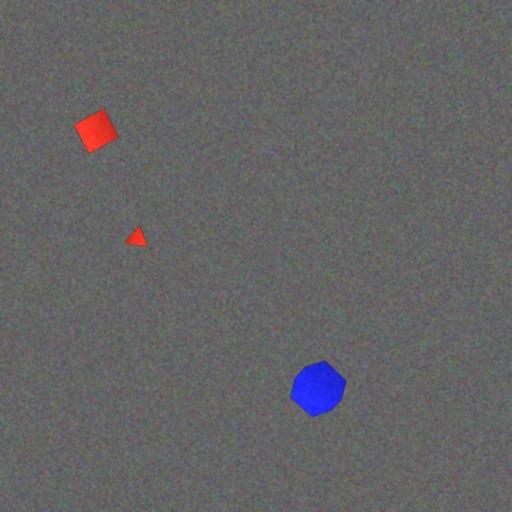RED_SQUARE: (74, 108, 120, 154)
